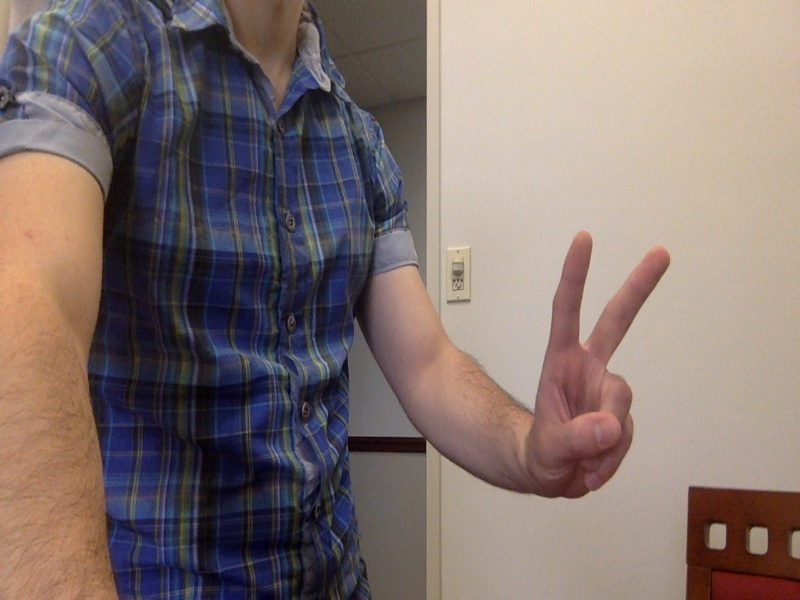2-hand: (527, 230, 671, 504)
